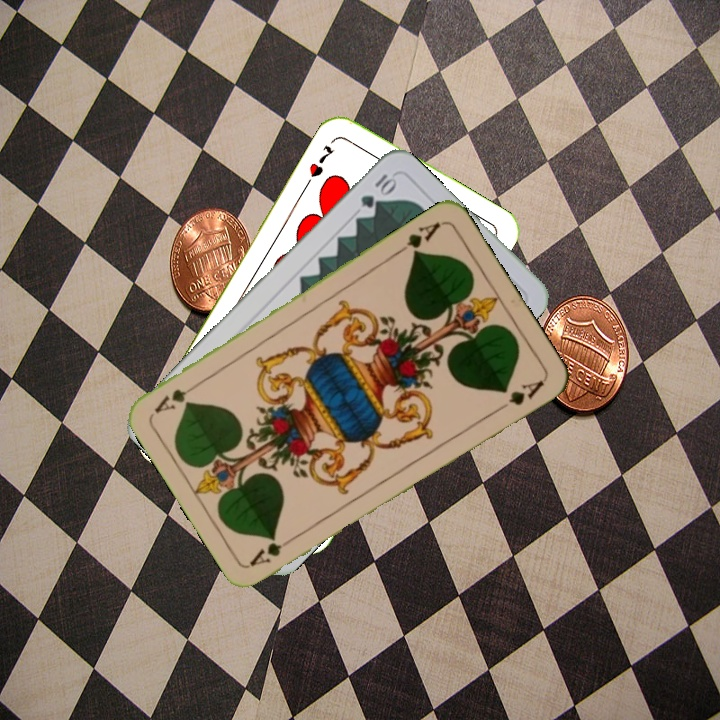G10: (356, 169, 399, 211)
GA: (392, 217, 444, 258), (246, 531, 300, 569)
H7: (305, 141, 337, 180)
